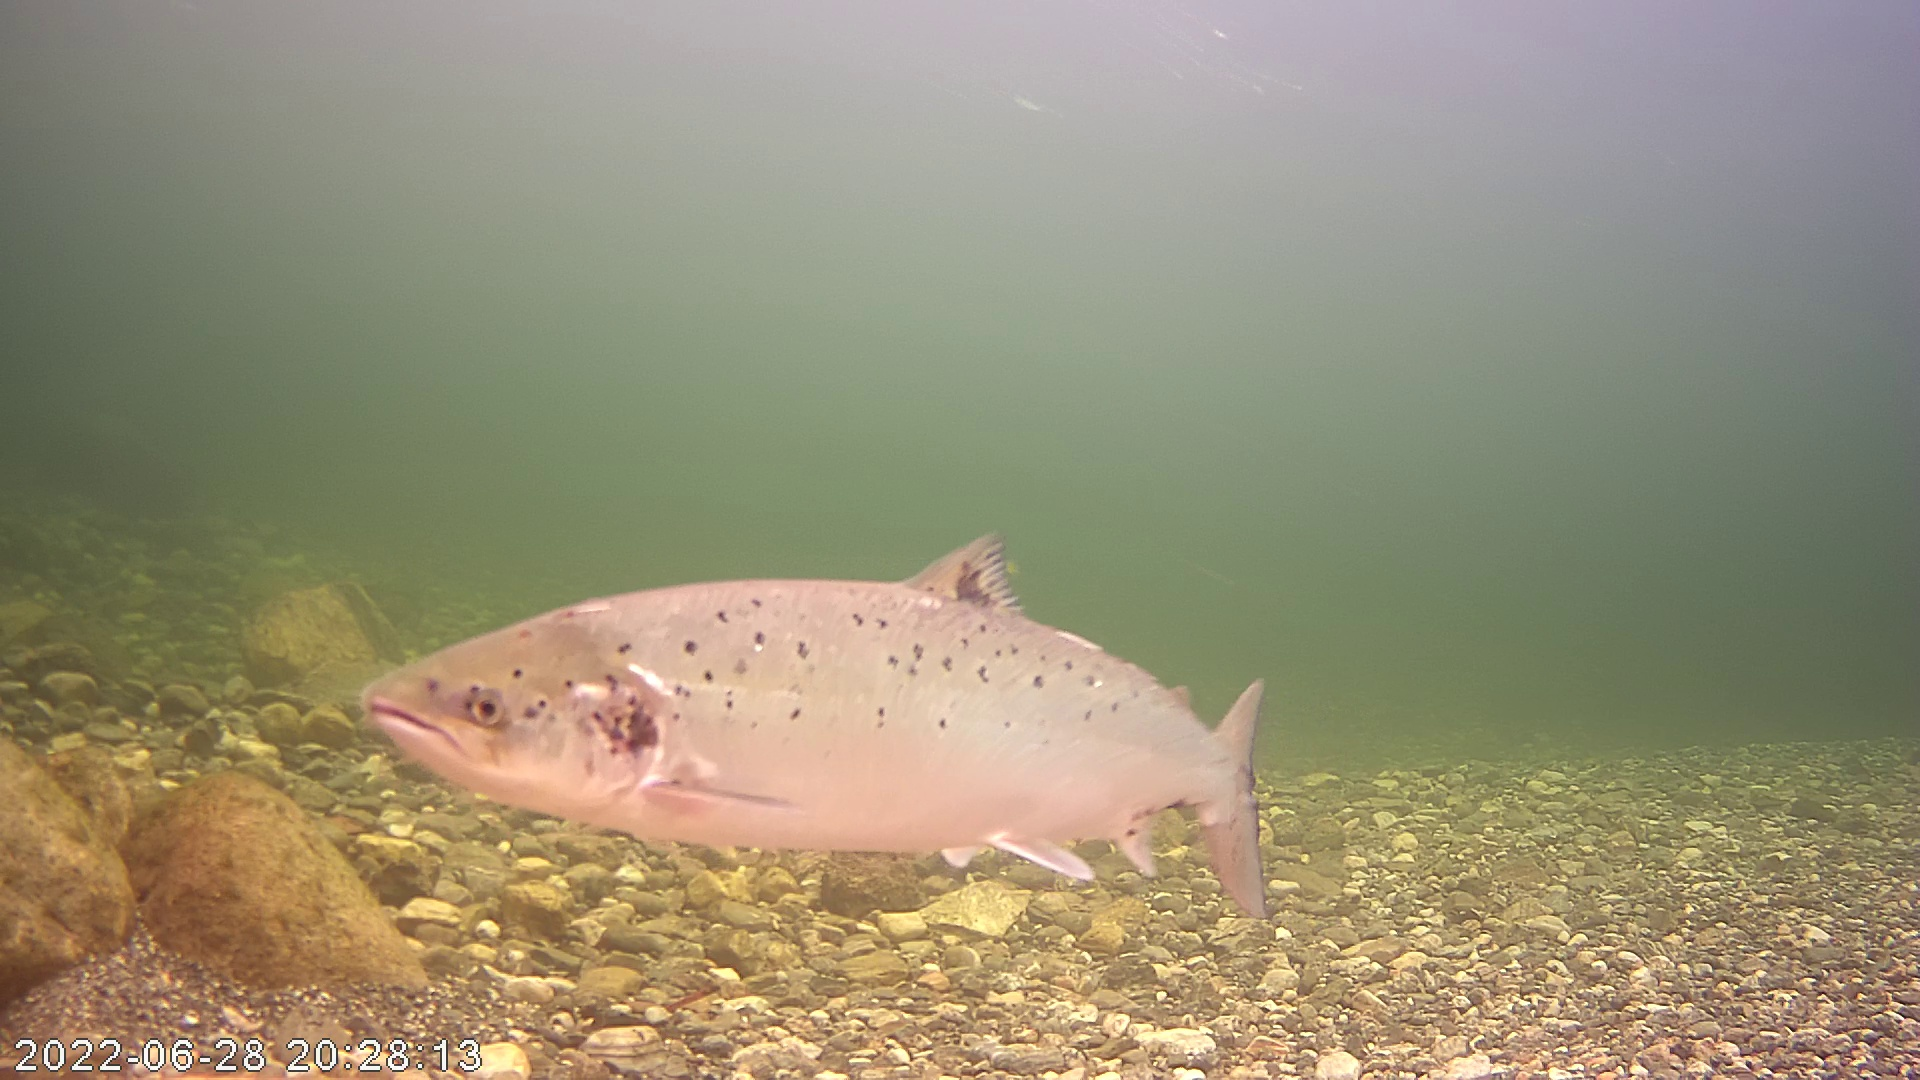salmon: (334, 476, 1284, 872)
